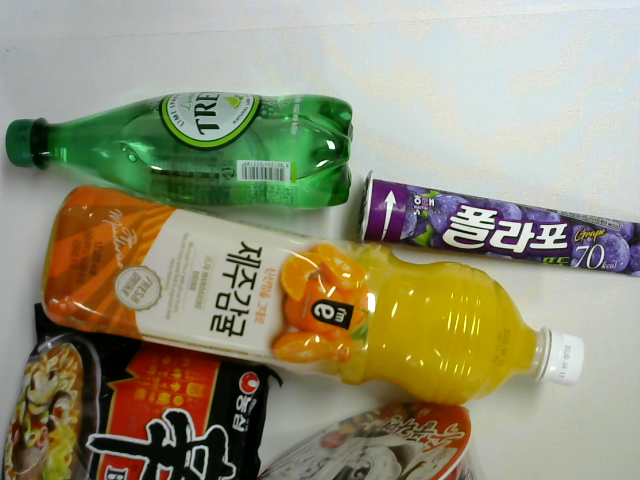Hejangpul: (249, 393, 493, 480)
Jeju_Tangerine_1.5L: (35, 181, 592, 405)
Polapo_Grape: (351, 167, 640, 278)
Sinramen_Black: (2, 304, 293, 480)
Treviraim_500ml: (1, 88, 361, 214)
